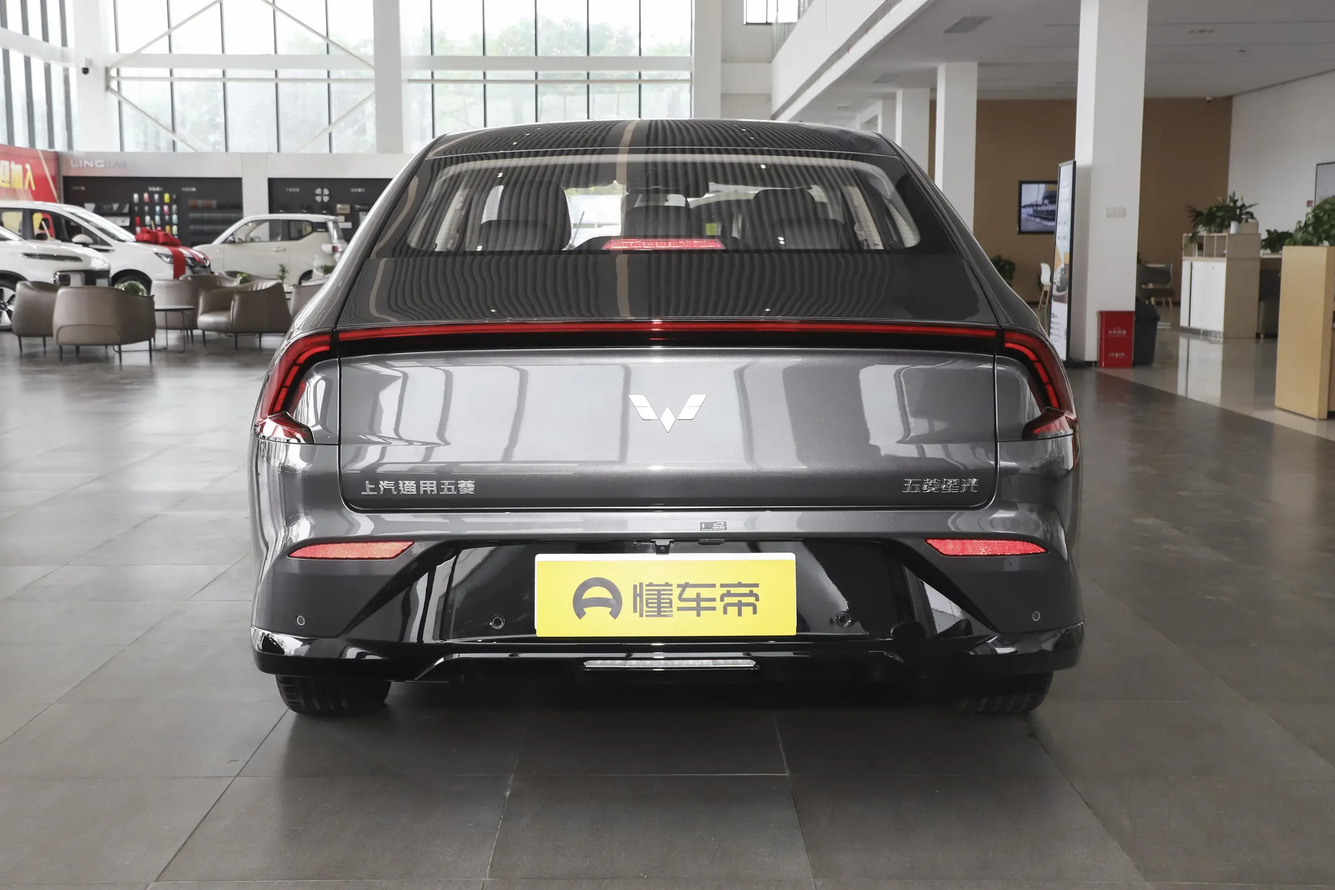SGMW: (628, 395, 706, 432)
